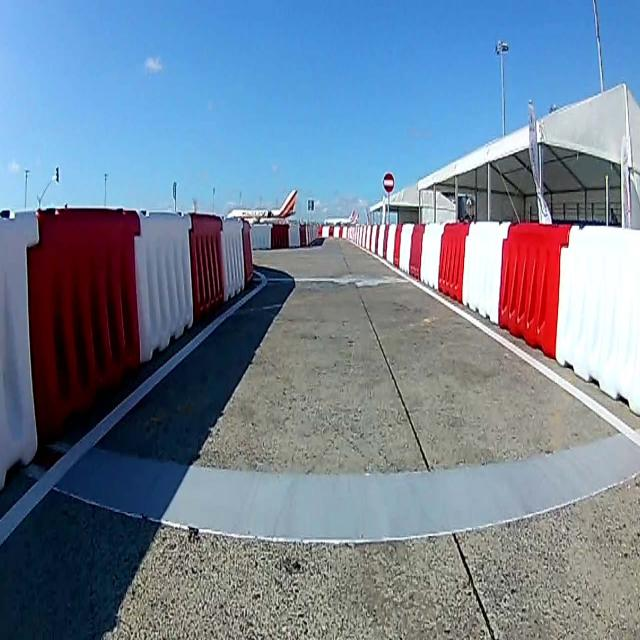girisyok: (382, 171, 395, 193)
